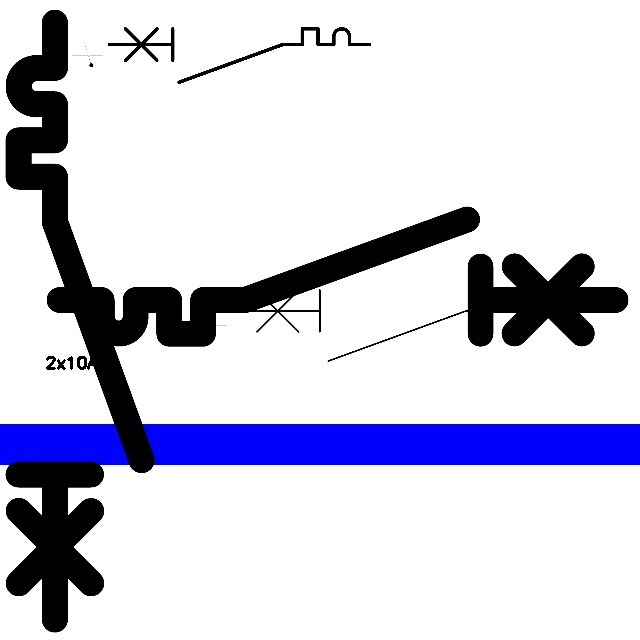interruptor_termomagnetico: (3, 7, 156, 634), (45, 205, 629, 348), (227, 281, 590, 370), (102, 22, 375, 89)
